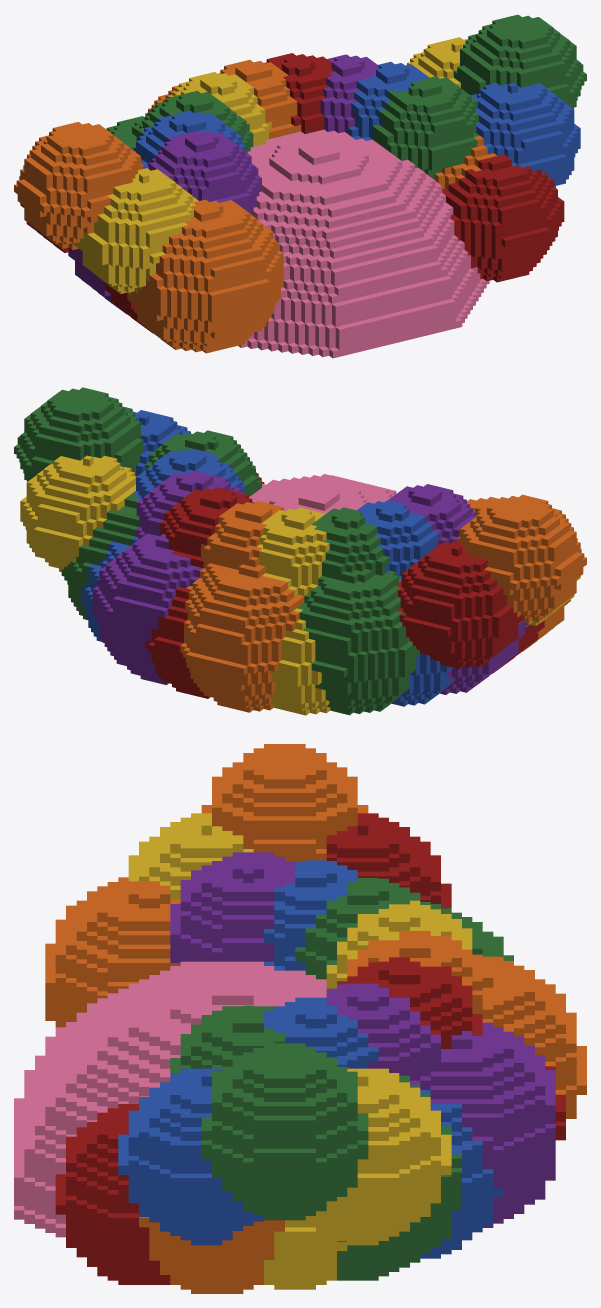
File: clown_wig.glb
The picture shows the model from 3 angles, top to bottom: view 1: azimuth 30°, elevation 25°; view 2: azimuth 150°, elevation 25°; view 3: azimuth 270°, elevation 25°; orthographic projection. The views are drawn at different scales.
Parts seen in each view (by area): view 1: clown_wig:compound; view 2: clown_wig:compound; view 3: clown_wig:compound.
Part boxes in pixels (left/top/right/bottom): clown_wig:compound: left=14, top=14, right=586, bottom=358; clown_wig:compound: left=14, top=387, right=586, bottom=715; clown_wig:compound: left=14, top=744, right=586, bottom=1293.
Bounding box in the file's own units: 0.336 × 0.112 × 0.22.
